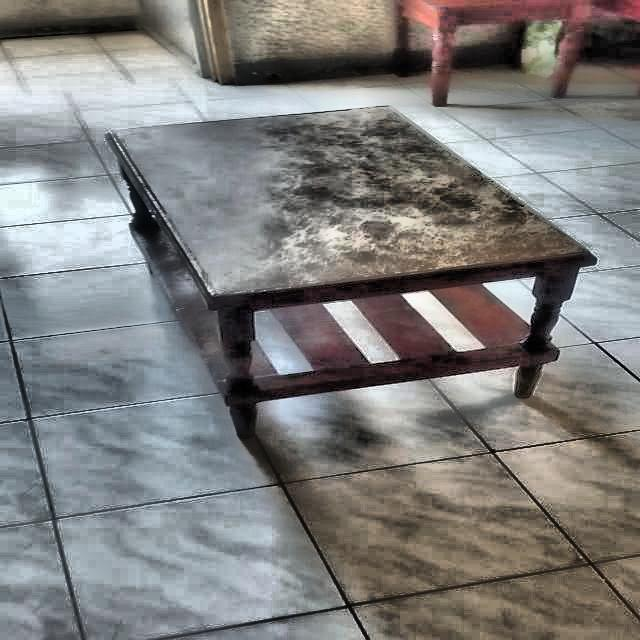mesa: (97, 101, 601, 441)
